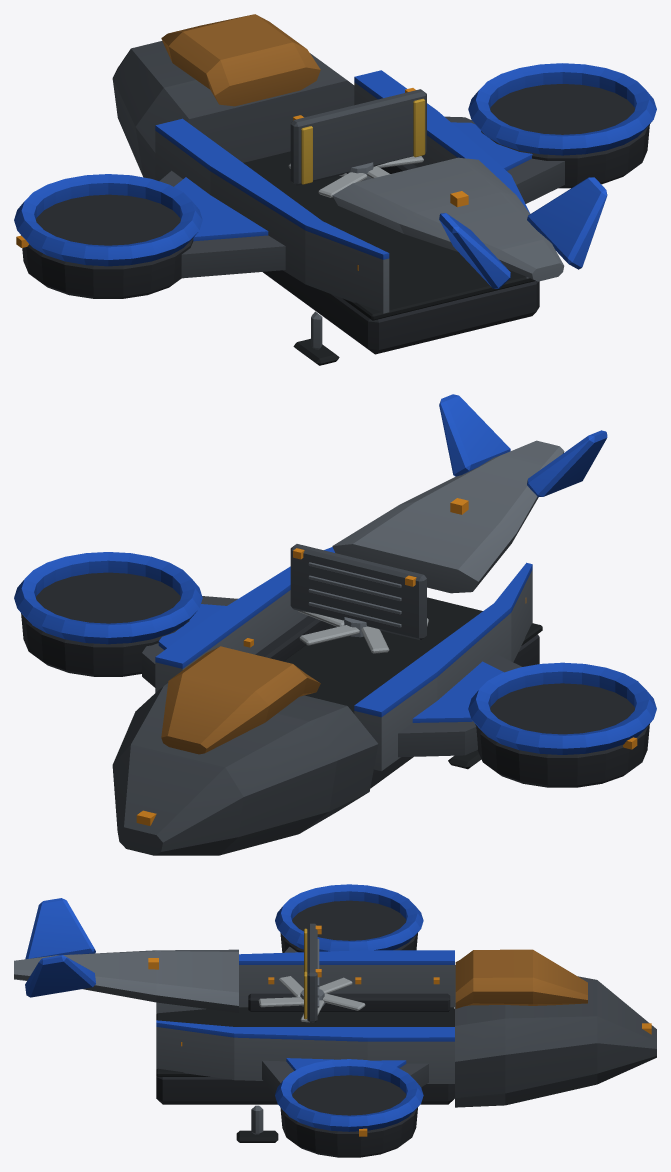
File: condor.glb
3 views of the same model, one above another, from view 1: azimuth 30°, elevation 25°; view 2: azimuth 150°, elevation 25°; view 3: azimuth 270°, elevation 25° (orthographic). The views are drawn at different scales.
Parts seen in each view (by area): view 1: hull, ramp, rotor; view 2: hull, ramp, rotor; view 3: hull, rotor, ramp.
Boxes of the visible parts, x1,y1,x2,y2 form: hull: (14,14,656,365); ramp: (290,88,426,185); rotor: (288,156,423,197); hull: (14,394,656,855); ramp: (290,544,426,640); rotor: (297,610,428,653); hull: (14,884,656,1157); rotor: (258,976,365,1022); ramp: (304,923,321,1022).
Size of the model in its own units: 1.22 by 0.4387 by 1.4.
